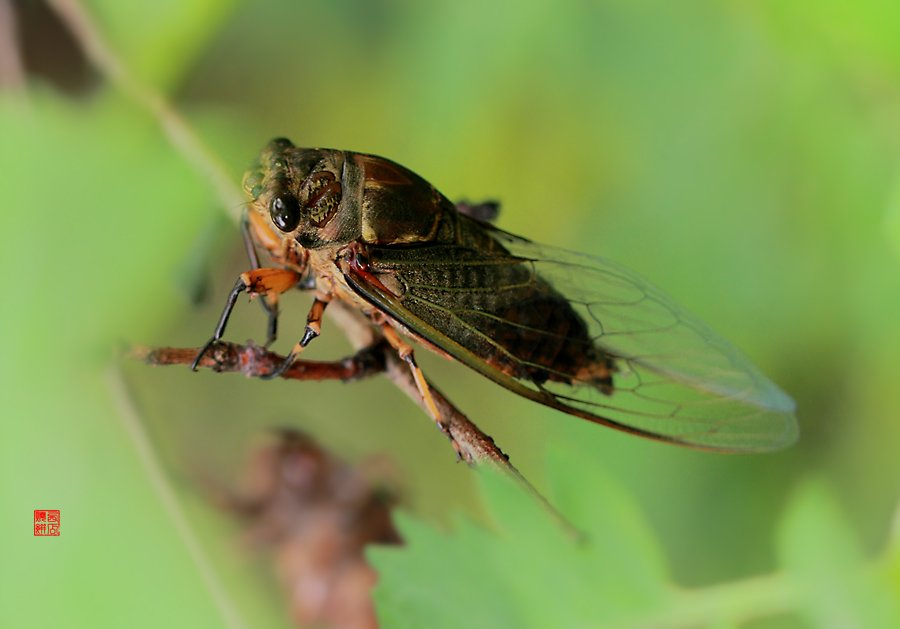chan: (202, 137, 807, 518)
